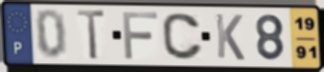0: (34, 8, 68, 61)
8: (254, 13, 287, 63)
C: (160, 11, 206, 62)
F: (120, 10, 160, 61)
K: (213, 12, 246, 62)
T: (75, 8, 108, 62)
